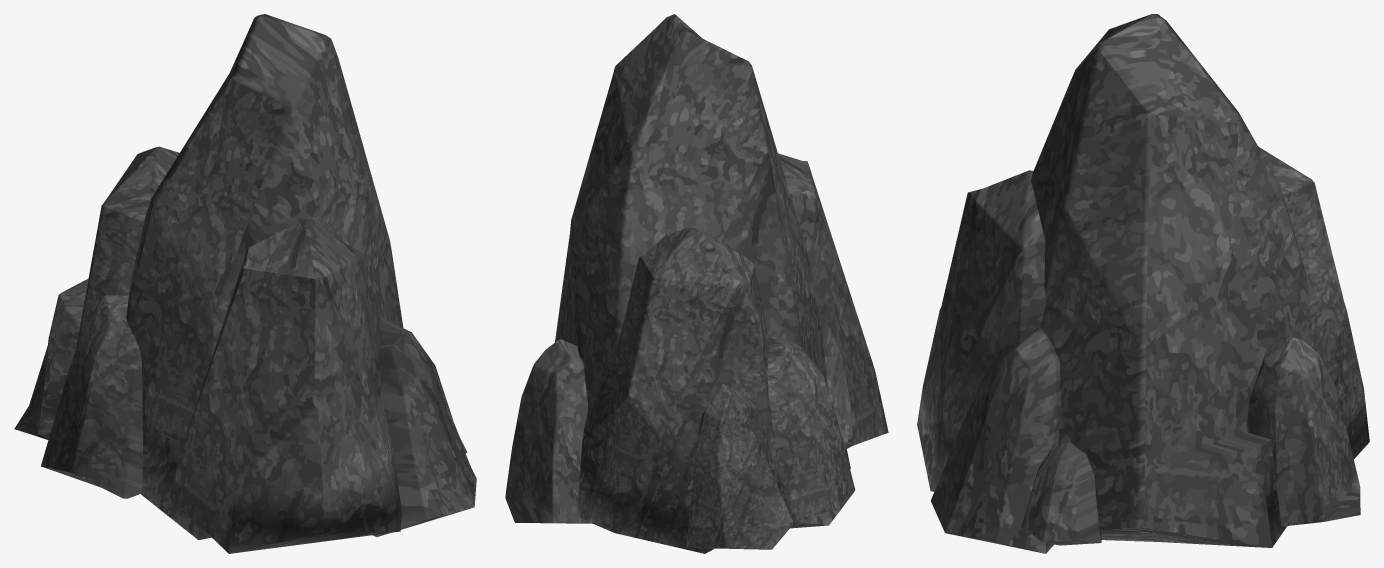
Rendered from MyRock.fbx.
3 views of the same model, side by side, from view 1: azimuth 30°, elevation 25°; view 2: azimuth 150°, elevation 25°; view 3: azimuth 270°, elevation 25° (orthographic). The views are drawn at different scales.
Parts seen in each view (by area): view 1: Rocks; view 2: Rocks; view 3: Rocks.
Boxes of the visible parts, <box> form: Rocks: <box>14,14,476,553</box>; Rocks: <box>505,14,888,553</box>; Rocks: <box>917,14,1369,553</box>.
Bounding box in the file's own units: 15.51 × 22.41 × 17.43.
